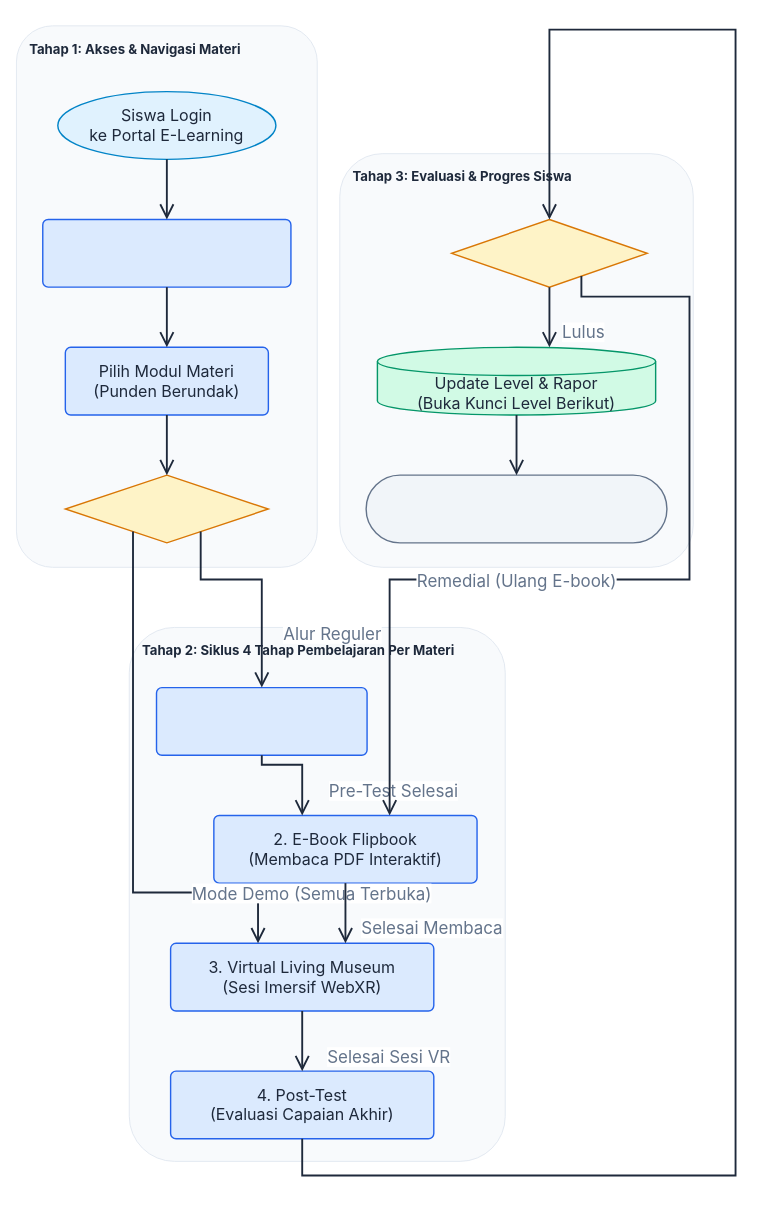
The diagram is 766 pixels wide and 1205 high, and some of its shapes have lost their labels. Each missing label, with the centre of its shape:
1. Pre-Test (Baseline Kognitif): (261,721)
Cek Mode Aplikasi: Demo atau Reguler?: (166,508)
Nilai Post-Test Lulus Syarat KKM?: (549,252)
Pilih Era Sejarah (Prasejarah s/d Modern): (166,252)
Selesai Modul: Lanjut ke Materi Berikutnya: (516,508)
